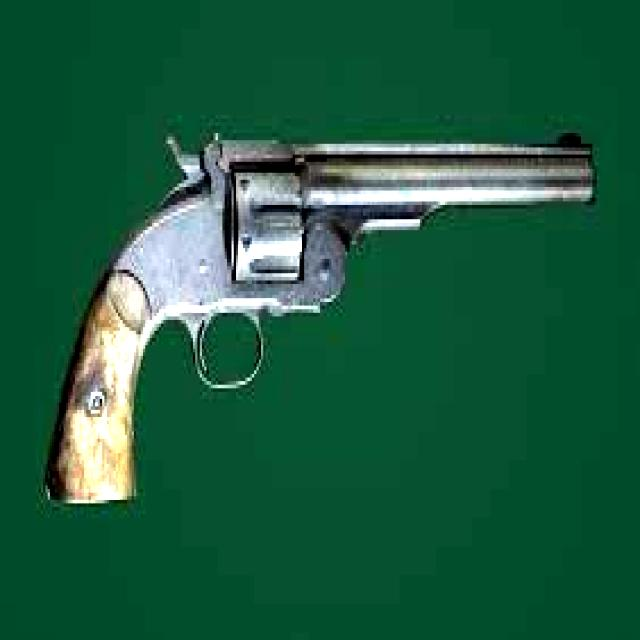revolver: (2, 1, 640, 640), (3, 3, 640, 640)
